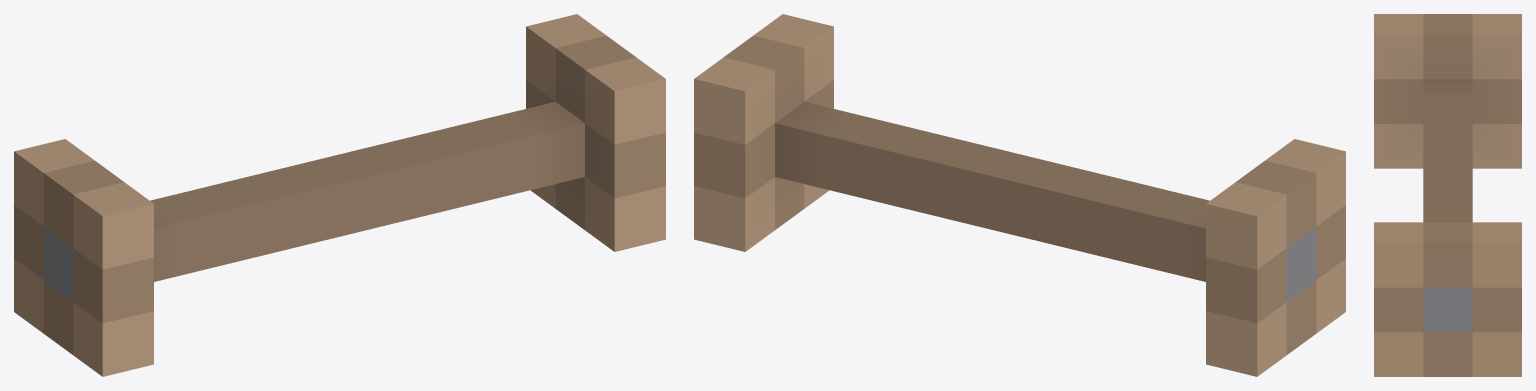
Rendered from life_cart_axle.glb.
3 views of the same model, side by side, from view 1: azimuth 30°, elevation 25°; view 2: azimuth 150°, elevation 25°; view 3: azimuth 270°, elevation 25° (orthographic). The views are drawn at different scales.
Visible parts, largest first — view 1: life_cart_axle; view 2: life_cart_axle; view 3: life_cart_axle.
Part boxes in pixels (x1,y1,x2,y2): life_cart_axle: (14,14,665,376); life_cart_axle: (694,14,1345,376); life_cart_axle: (1374,14,1521,376).
Size of the model in its own units: 0.6875 by 0.1875 by 0.1875.
